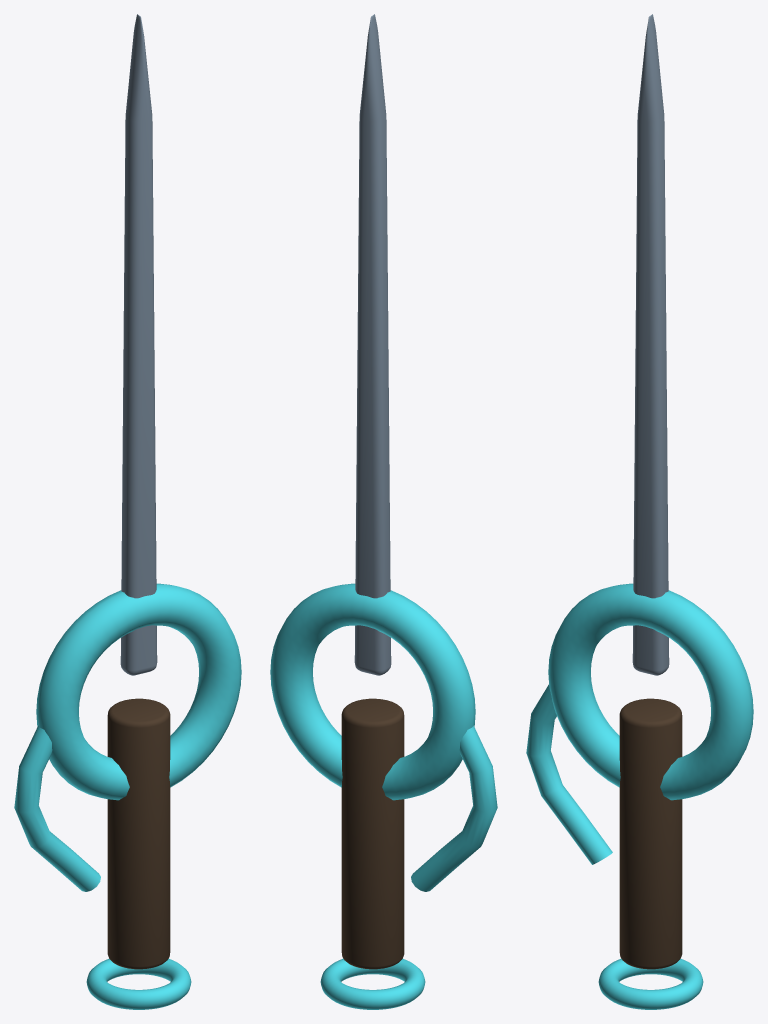
File: sword_v5.glb
The picture shows the model from 3 angles, left to right: view 1: azimuth 30°, elevation 25°; view 2: azimuth 150°, elevation 25°; view 3: azimuth 330°, elevation 25°; orthographic projection.
Visible parts, largest first — view 1: RAPIER_CUP_GUARD_ACCENT, RAPIER_BLADE_PRIMARY, GRIP_SECONDARY, RAPIER_KNUCKLE_BOW_ACCENT, POMMEL_ACCENT; view 2: RAPIER_CUP_GUARD_ACCENT, RAPIER_BLADE_PRIMARY, GRIP_SECONDARY, RAPIER_KNUCKLE_BOW_ACCENT, POMMEL_ACCENT; view 3: RAPIER_CUP_GUARD_ACCENT, RAPIER_BLADE_PRIMARY, GRIP_SECONDARY, RAPIER_KNUCKLE_BOW_ACCENT, POMMEL_ACCENT.
Part boxes in pixels (box(x1,y1,x2,y2)): RAPIER_CUP_GUARD_ACCENT: box(36, 583, 241, 800); RAPIER_BLADE_PRIMARY: box(120, 14, 157, 675); GRIP_SECONDARY: box(107, 698, 170, 969); RAPIER_KNUCKLE_BOW_ACCENT: box(14, 725, 100, 891); POMMEL_ACCENT: box(86, 958, 191, 1009); RAPIER_CUP_GUARD_ACCENT: box(270, 583, 475, 800); RAPIER_BLADE_PRIMARY: box(354, 14, 391, 675); GRIP_SECONDARY: box(341, 698, 404, 969); RAPIER_KNUCKLE_BOW_ACCENT: box(411, 725, 497, 891); POMMEL_ACCENT: box(320, 958, 425, 1009); RAPIER_CUP_GUARD_ACCENT: box(548, 583, 753, 800); RAPIER_BLADE_PRIMARY: box(632, 14, 669, 675); GRIP_SECONDARY: box(619, 698, 682, 969); RAPIER_KNUCKLE_BOW_ACCENT: box(526, 684, 612, 864); POMMEL_ACCENT: box(598, 958, 703, 1009).
Bounding box in the file's own units: 1.15 × 4.81 × 0.468.
